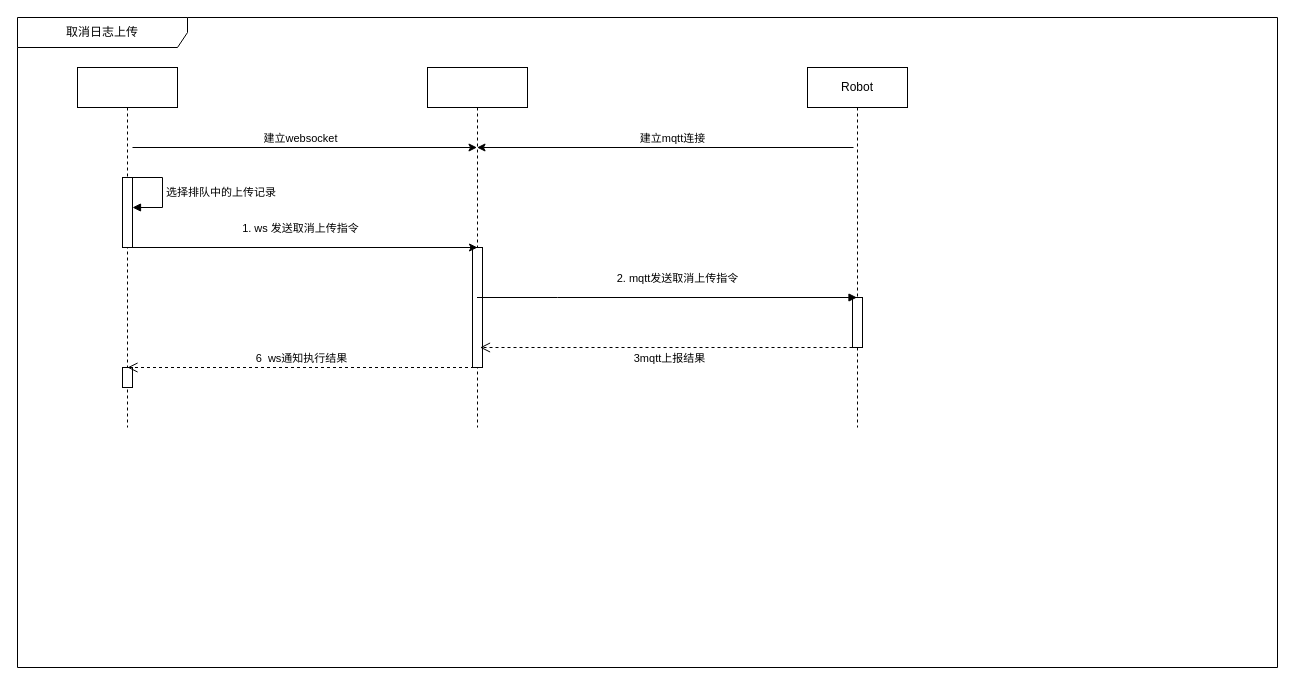
The diagram is 1295 pixels wide and 685 high, and some of its shapes have lost their labels. The shapes that lost their labels are listed below. From the top down, each one's box as (x1, y1, x2, y2) in pixels, then its label:
(76, 66, 178, 428): 前端
(426, 66, 528, 428): 后端
